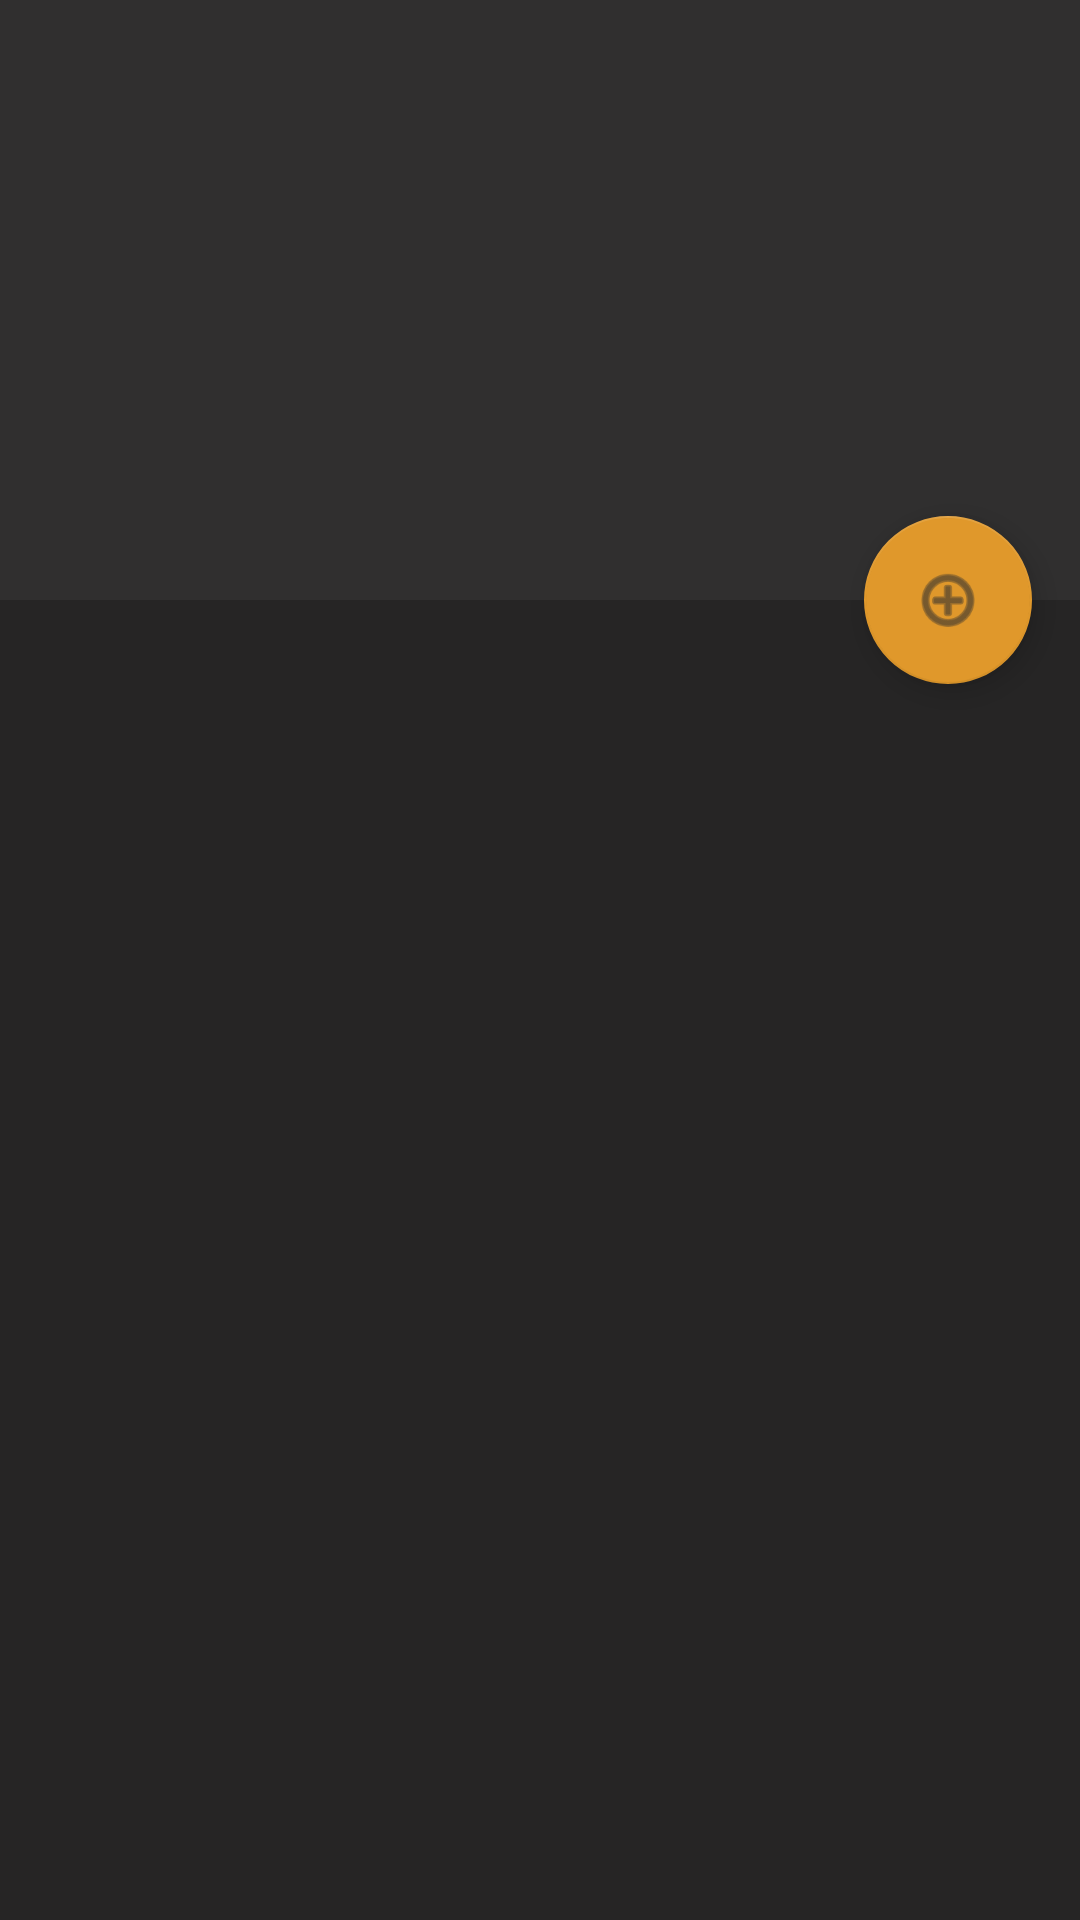

Icons on this 1080w x 1920h Android screen, each with the point to tap as (x,y):
add: (948,600)
